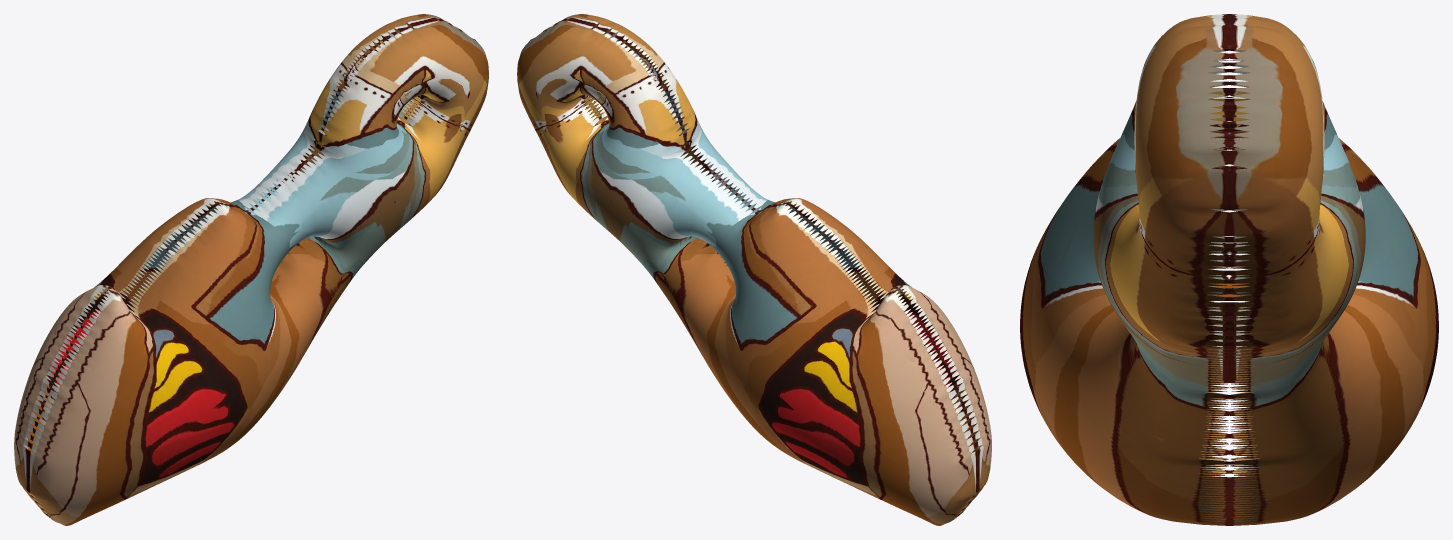
The model's file is link_arm.glb.
3 renders of one model, left to right at view 1: azimuth 30°, elevation 25°; view 2: azimuth 150°, elevation 25°; view 3: azimuth 270°, elevation 25°, orthographic. The views are drawn at different scales.
Parts seen in each view (by area): view 1: link_arm; view 2: link_arm; view 3: link_arm.
Part boxes in pixels (x1,y1,x2,y2): link_arm: (14, 14, 488, 525); link_arm: (517, 14, 991, 525); link_arm: (1020, 14, 1438, 525).
Bounding box in the file's own units: 0.9889 × 0.8578 × 0.4132.
1 material, 1 textured.
